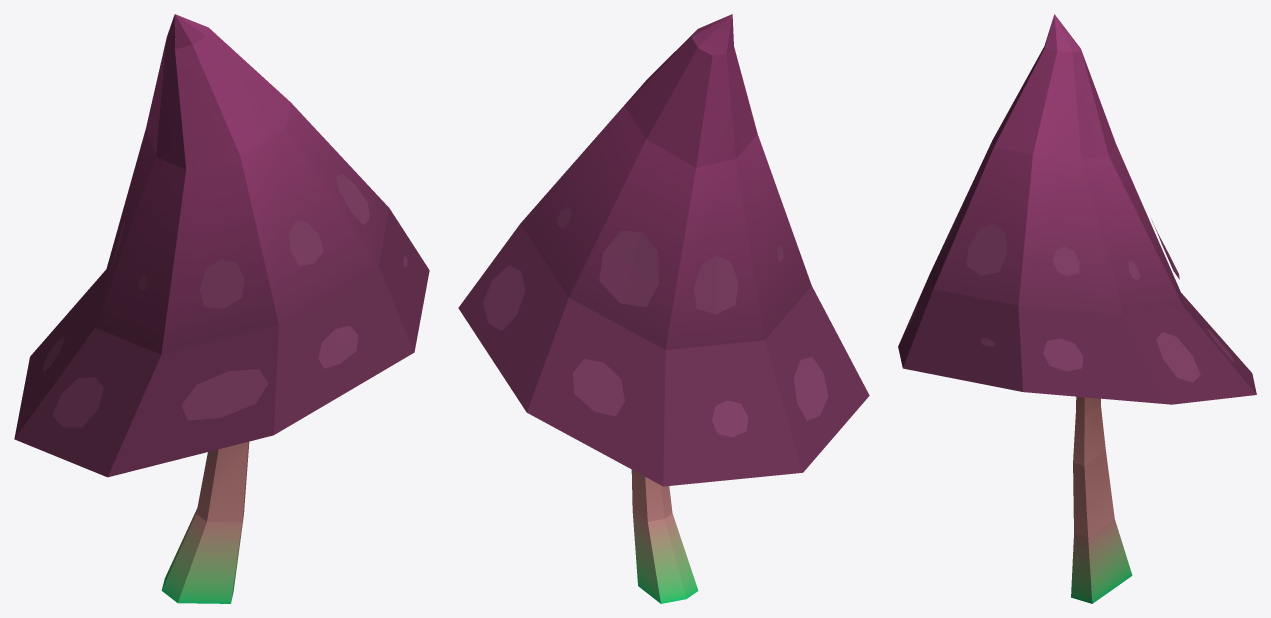
Rendered from mdl_env_1_forest_mushroom_b_v01.fbx.
3 views of the same model, side by side, from view 1: azimuth 30°, elevation 25°; view 2: azimuth 150°, elevation 25°; view 3: azimuth 270°, elevation 25° (orthographic). The views are drawn at different scales.
Visible parts, largest first — view 1: mdl_env_1_forest_mushroom_b_v01; view 2: mdl_env_1_forest_mushroom_b_v01; view 3: mdl_env_1_forest_mushroom_b_v01.
Part boxes in pixels (bbox=[...]): mdl_env_1_forest_mushroom_b_v01: bbox=[14, 14, 429, 603]; mdl_env_1_forest_mushroom_b_v01: bbox=[458, 14, 869, 603]; mdl_env_1_forest_mushroom_b_v01: bbox=[898, 14, 1256, 603].
Bounding box in the file's own units: 2.17 × 3.57 × 2.09.
